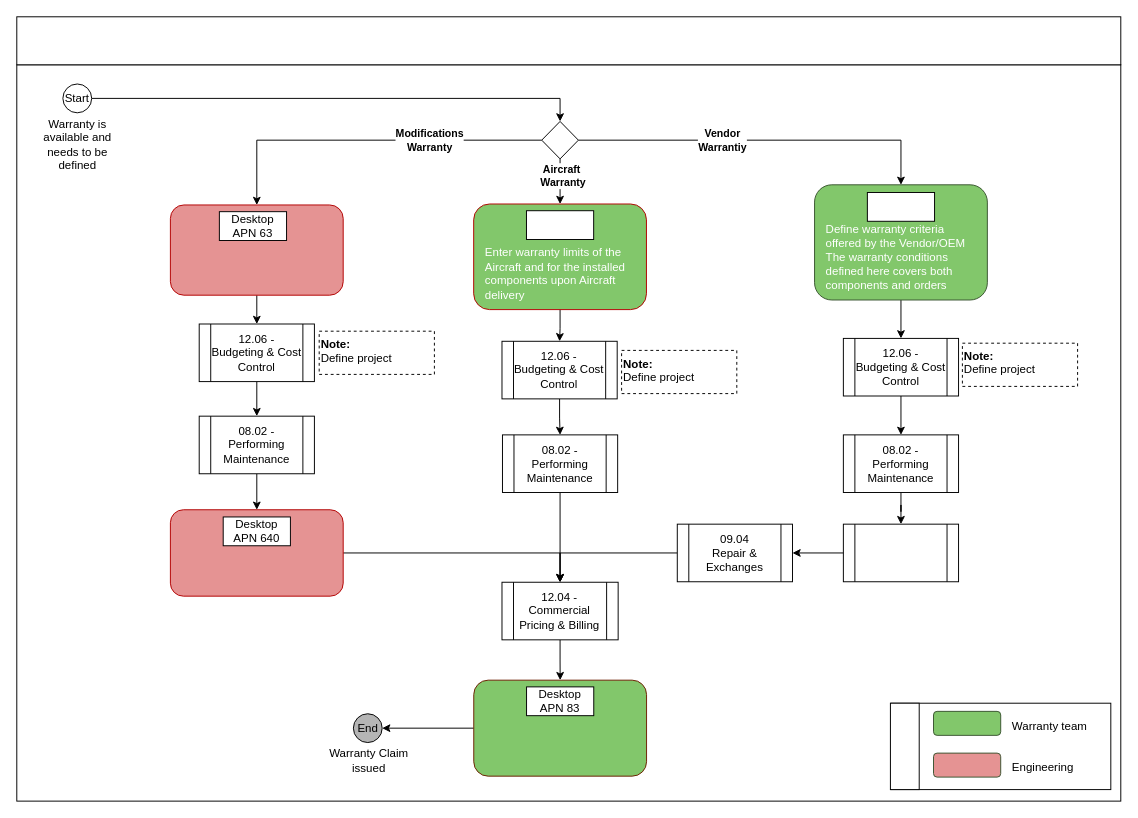
Image size: 1138x818. Some labels were removed from this diagram. The box of each missing label's shape, as (x1, y1, x2, y2) in pixels:
08.04 - Parts Removal & Installation: (842, 523, 959, 582)
09.05 Warranty: (16, 16, 1121, 65)
Define labour and material warranty associated with the modification: (169, 204, 343, 295)
Desktop APN 308: (526, 210, 594, 240)
Desktop APN 53: (866, 192, 935, 221)
LEGEND: (889, 702, 919, 790)
Modification Warranty Report is generated: (169, 509, 343, 596)
Origin: (541, 120, 578, 159)
Warranty Claim is generated, based on the collected information: (473, 679, 647, 776)
